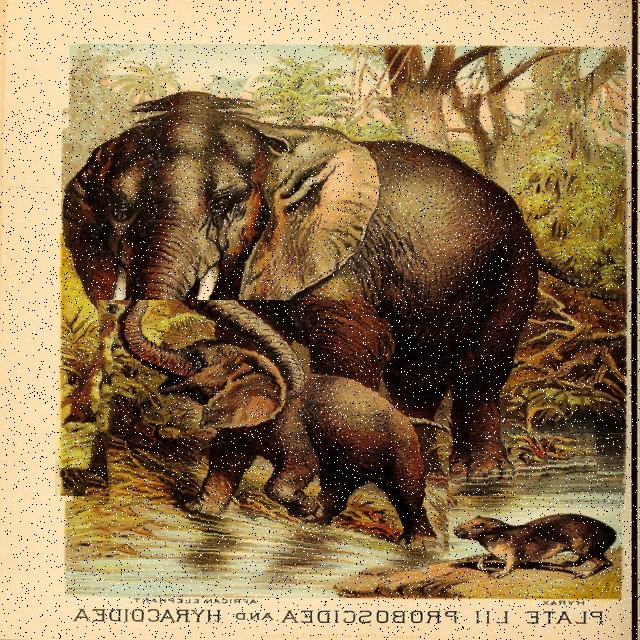elephant: (55, 95, 594, 496), (96, 300, 449, 564)
